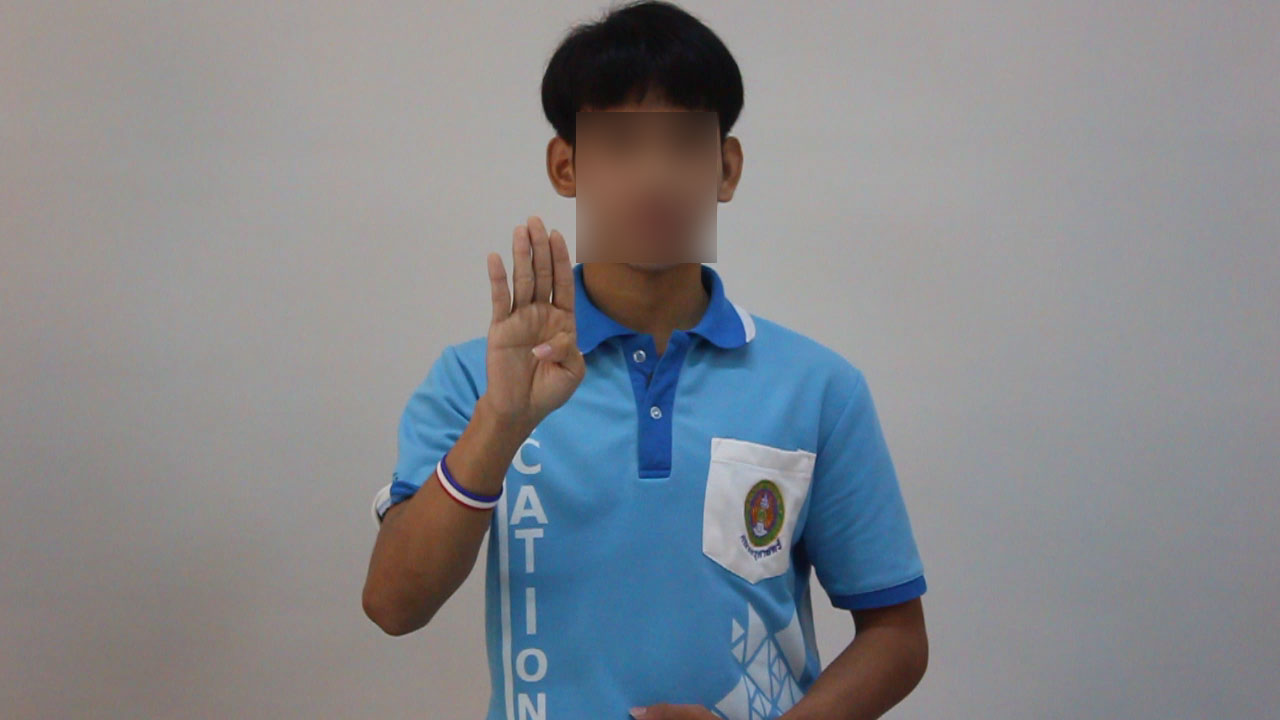bor: (469, 197, 597, 444)
